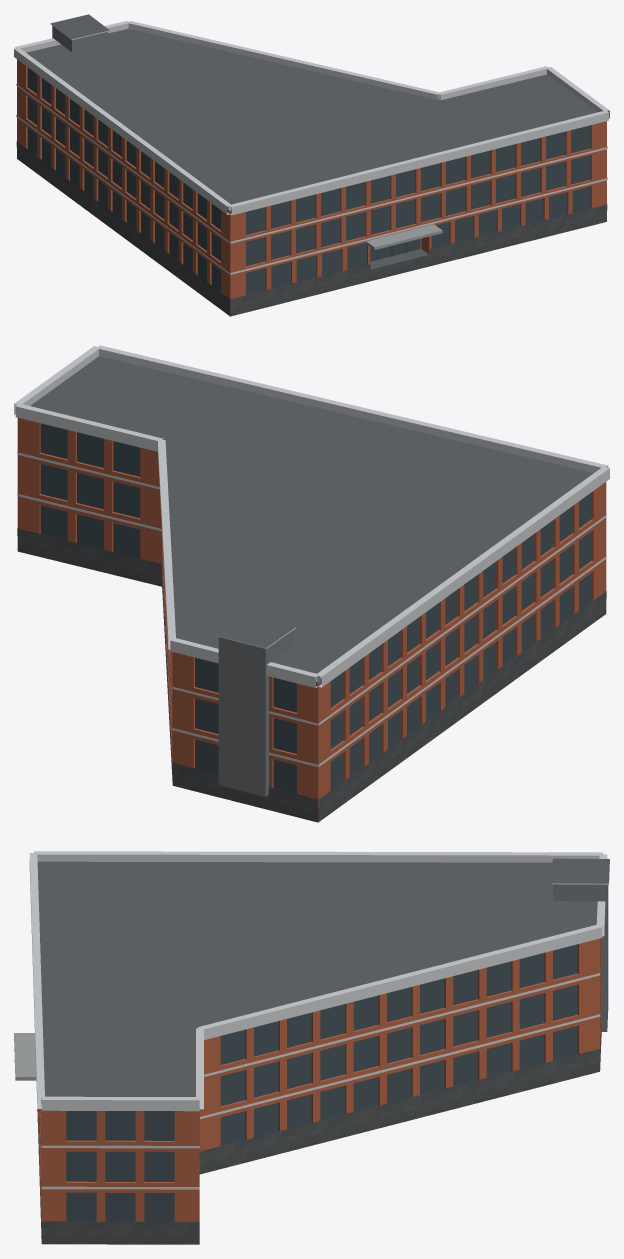
The picture shows the model from 3 angles, top to bottom: view 1: azimuth 30°, elevation 25°; view 2: azimuth 150°, elevation 25°; view 3: azimuth 270°, elevation 25°; orthographic projection. The views are drawn at different scales.
Parts seen in each view (by area): view 1: changYoungShin__roof, changYoungShin__glass, changYoungShin__wall, changYoungShin__trim, changYoungShin__base, changYoungShin__canopy, changYoungShin__wall2; view 2: changYoungShin__roof, changYoungShin__wall, changYoungShin__glass, changYoungShin__trim, changYoungShin__base, changYoungShin__wall2; view 3: changYoungShin__roof, changYoungShin__glass, changYoungShin__wall, changYoungShin__trim, changYoungShin__base, changYoungShin__wall2, changYoungShin__canopy.
Part boxes in pixels (left/top/right/bottom): changYoungShin__roof: left=26, top=14, right=597, bottom=269; changYoungShin__glass: left=27, top=67, right=590, bottom=295; changYoungShin__wall: left=17, top=59, right=606, bottom=304; changYoungShin__trim: left=14, top=21, right=609, bottom=274; changYoungShin__base: left=16, top=141, right=607, bottom=316; changYoungShin__canopy: left=366, top=224, right=442, bottom=249; changYoungShin__wall2: left=52, top=26, right=108, bottom=52; changYoungShin__roof: left=30, top=356, right=593, bottom=682; changYoungShin__wall: left=17, top=418, right=606, bottom=806; changYoungShin__glass: left=40, top=423, right=591, bottom=793; changYoungShin__trim: left=14, top=345, right=609, bottom=766; changYoungShin__base: left=17, top=528, right=606, bottom=822; changYoungShin__wall2: left=218, top=630, right=293, bottom=796; changYoungShin__roof: left=37, top=858, right=609, bottom=1182; changYoungShin__glass: left=66, top=944, right=577, bottom=1221; changYoungShin__wall: left=38, top=938, right=600, bottom=1222; changYoungShin__trim: left=29, top=851, right=609, bottom=1189; changYoungShin__base: left=37, top=1025, right=601, bottom=1244; changYoungShin__wall2: left=553, top=884, right=608, bottom=1031; changYoungShin__canopy: left=14, top=1033, right=36, bottom=1080.
Bounding box in the file's own units: 51.91 × 16 × 52.48.
Materials: 9 (1 with a texture image).
